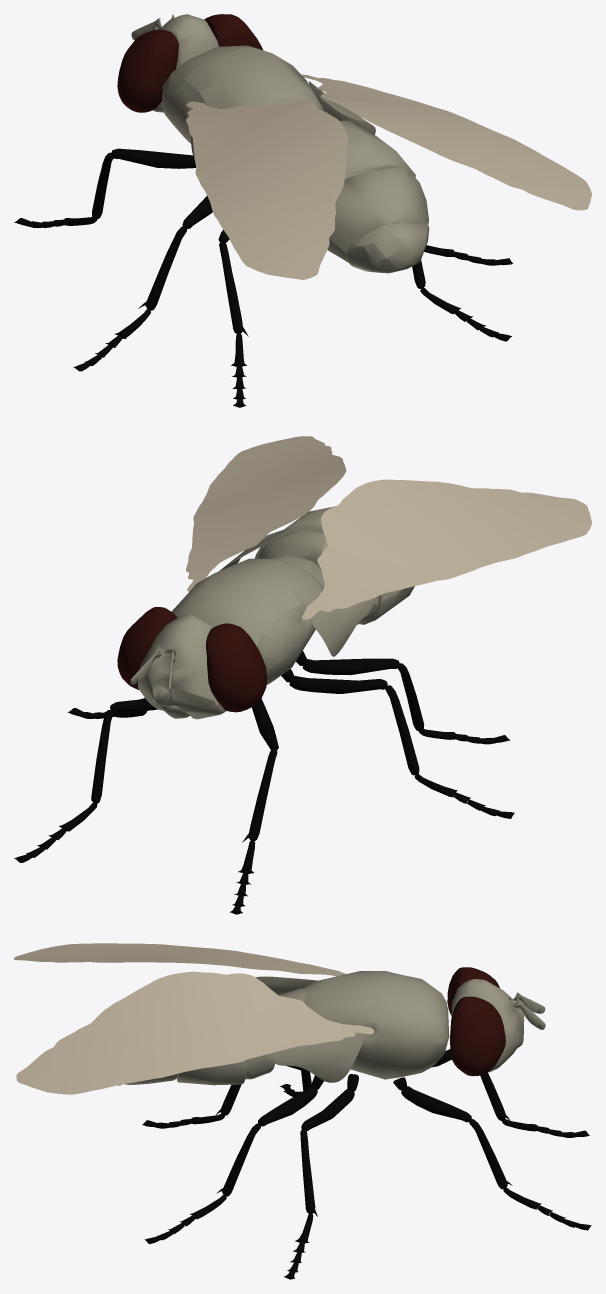
File: housefly.gltf
3 views of the same model, one above another, from view 1: azimuth 30°, elevation 25°; view 2: azimuth 150°, elevation 25°; view 3: azimuth 270°, elevation 25° (orthographic). The views are drawn at different scales.
Parts seen in each view (by area): view 1: FLYALA0; view 2: FLYALA0; view 3: FLYALA0.
Boxes of the visible parts, x1,y1,x2,y2 form: FLYALA0: (14, 14, 591, 407); FLYALA0: (14, 436, 591, 914); FLYALA0: (14, 943, 591, 1279).
Size of the model in its own units: 1.6 by 0.8341 by 2.02.
